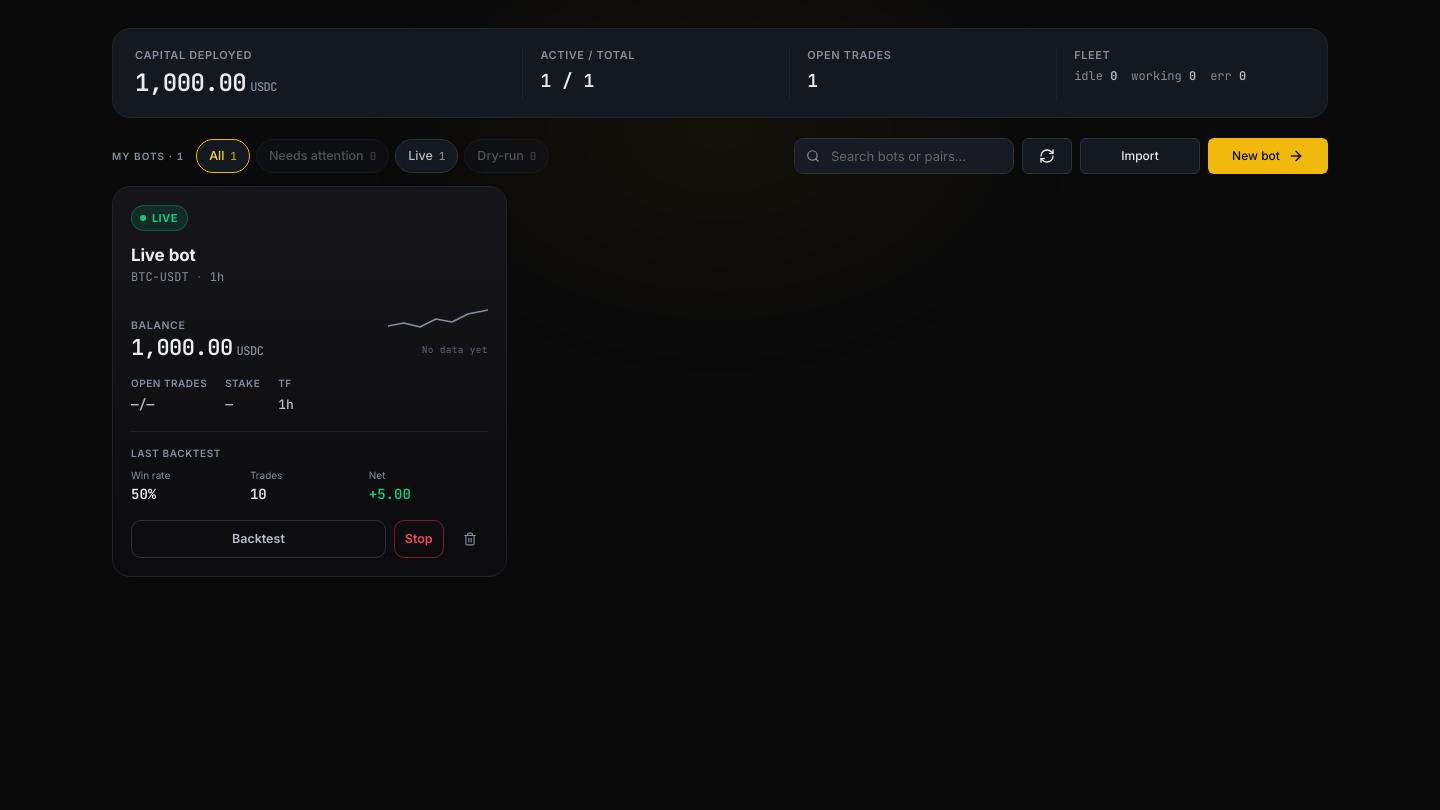
Test case: DashboardPage › auto-resets an active filter when its bucket empties after refresh
Check: the heading "Live bot" is shown, box 131,245 -> 196,265
// Filter to Live → only the live bot shows.
Click the button "Live 1" at (427, 156), box 395,139 -> 458,173
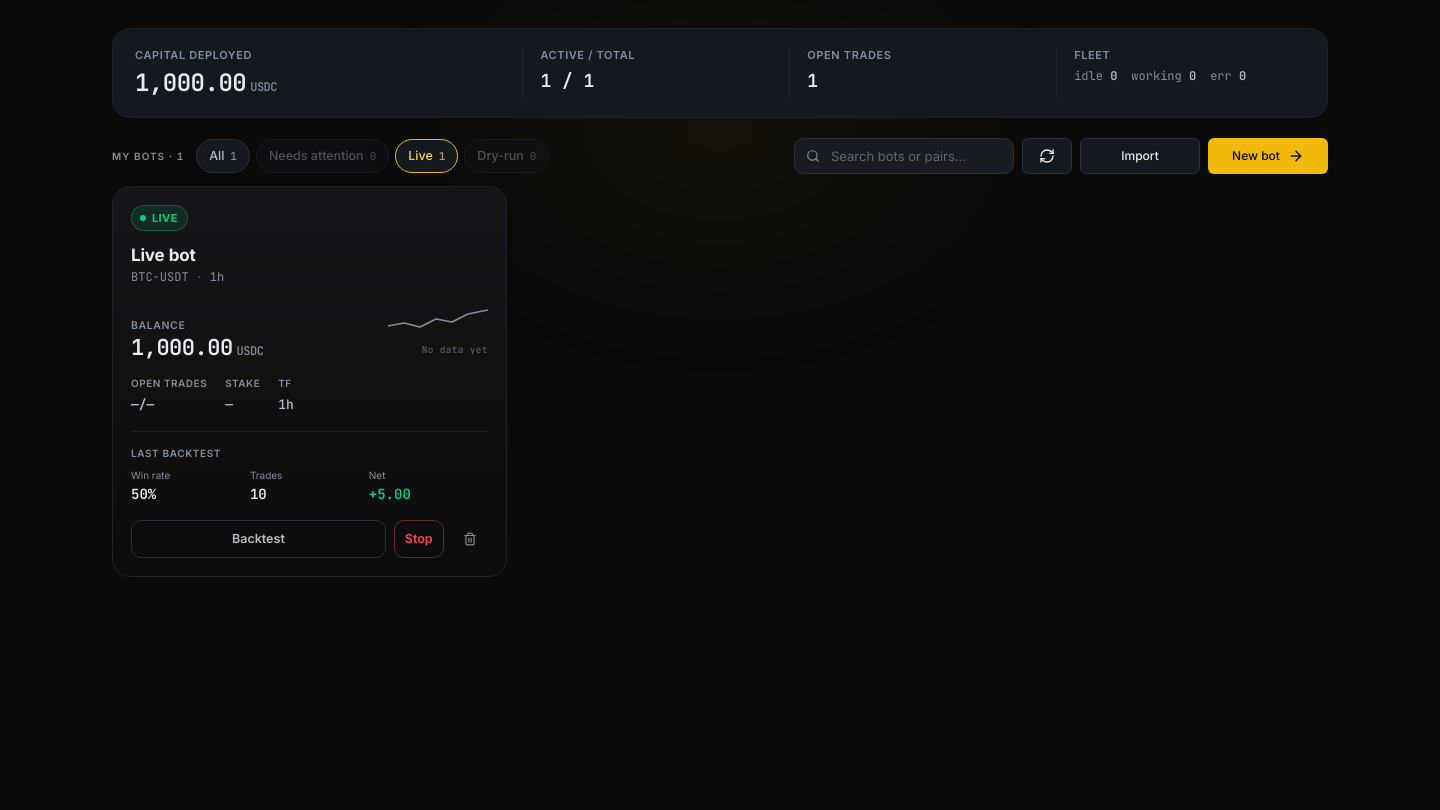
Check: the heading "Live bot" is shown, box 131,245 -> 196,265
Click the button named "refresh" at (1047, 156), box 1022,138 -> 1072,174
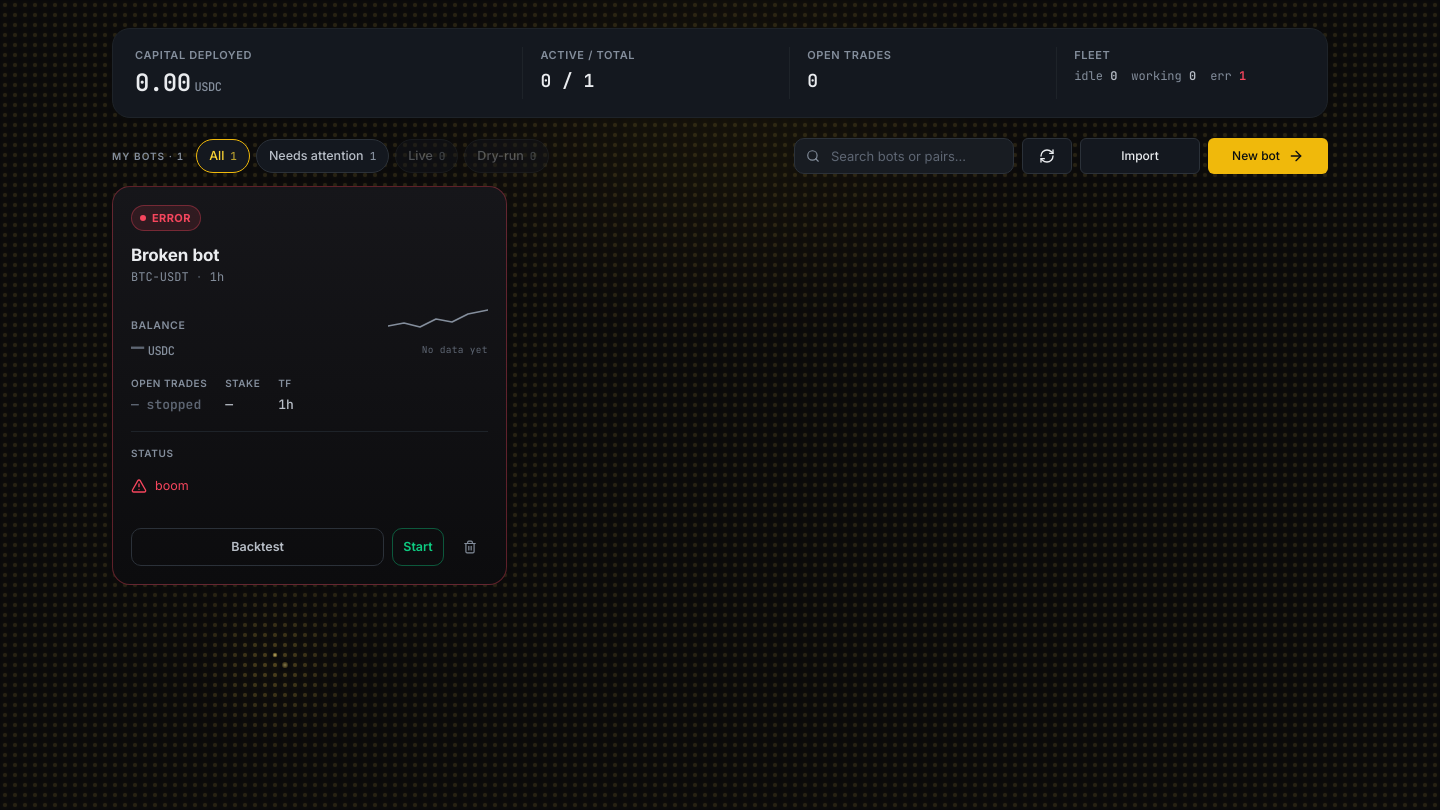
Check: the heading "Broken bot" is shown, box 131,245 -> 219,265
